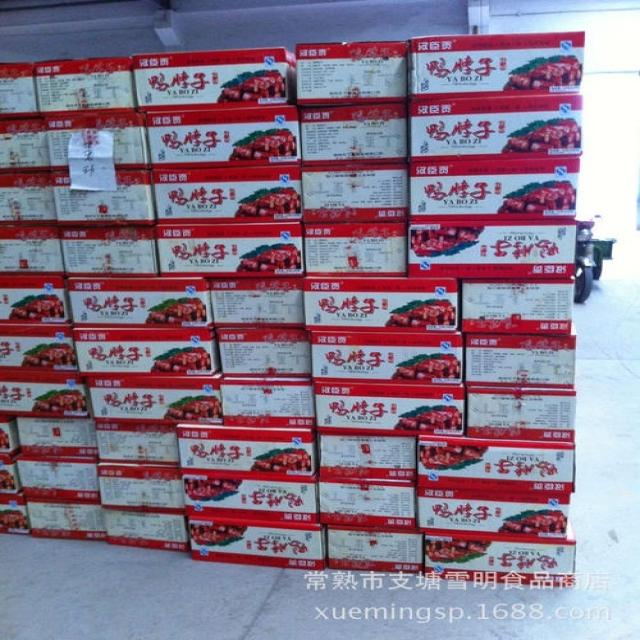box: (408, 31, 586, 100), (410, 94, 583, 162), (408, 156, 580, 221), (132, 47, 296, 112), (423, 519, 576, 586), (408, 219, 577, 279), (146, 106, 300, 169), (417, 435, 576, 493), (152, 165, 302, 224), (417, 483, 571, 540), (303, 277, 458, 332), (314, 381, 466, 437), (177, 423, 318, 483), (310, 331, 463, 386), (155, 223, 305, 277), (67, 276, 214, 330), (464, 322, 577, 390), (188, 516, 327, 570), (87, 370, 223, 425), (72, 327, 221, 377), (296, 40, 408, 105), (182, 474, 320, 525), (299, 102, 408, 166), (461, 279, 574, 336), (34, 56, 138, 117), (301, 163, 408, 222), (45, 112, 152, 171), (466, 386, 577, 442), (51, 169, 157, 226), (303, 222, 408, 277), (59, 225, 160, 277), (209, 277, 305, 329), (219, 377, 316, 428), (319, 478, 416, 528), (319, 432, 417, 481), (328, 524, 423, 573), (216, 328, 311, 377), (97, 462, 185, 512), (0, 373, 92, 418), (0, 324, 81, 375), (102, 508, 188, 552), (95, 422, 180, 465), (16, 457, 99, 501), (0, 275, 72, 325), (25, 496, 107, 539), (16, 416, 99, 457), (0, 171, 58, 226), (0, 226, 64, 275), (0, 117, 50, 173), (0, 62, 39, 120), (0, 493, 29, 534), (0, 416, 20, 460), (1, 457, 22, 496)
